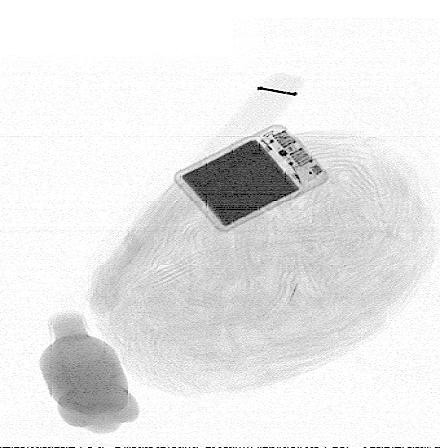Powerbank: (172, 124, 330, 234)
